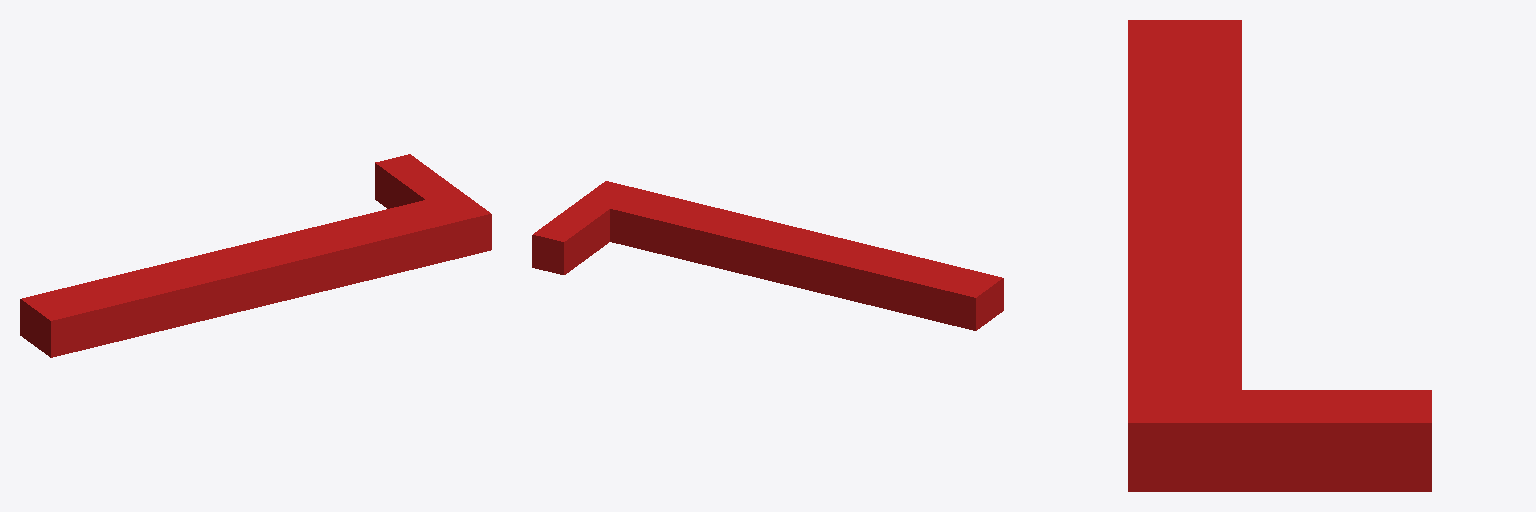
The robot description file, URDF, robot "lpeg_matchedmass_half":
<?xml version='1.0' encoding='utf-8'?>
<robot name="lpeg_matchedmass_half">
  <material name="peg_red">
    <color rgba="0.8000 0.1569 0.1569 1.0" />
  </material>
  <link name="lpeg_matchedmass">
    <visual>
      <origin xyz="0 0 0" rpy="0 0 0" />
      <geometry>
        <box size="0.125 0.015 0.01" />
      </geometry>
      <material name="peg_red" />
    </visual>
    <visual>
      <origin xyz="0.0575 0.0125 0" rpy="0 0 0" />
      <geometry>
        <box size="0.01 0.04 0.01" />
      </geometry>
      <material name="peg_red" />
    </visual>
    <collision>
      <origin xyz="0 0 0" rpy="0 0 0" />
      <geometry>
        <box size="0.125 0.015 0.01" />
      </geometry>
    </collision>
    <collision>
      <origin xyz="0.0575 0.0125 0" rpy="0 0 0" />
      <geometry>
        <box size="0.01 0.04 0.01" />
      </geometry>
    </collision>
    <inertial>
      <mass value="0.007225" />
      <origin xyz="0.01011 0.002198 0" rpy="0 0 0" />
      <inertia ixx="5.046875e-07" ixy="-7.525e-07" ixz="0" iyy="1.1284375e-05" iyz="0" izz="1.166875e-05" />
    </inertial>
  </link>
</robot>

--- What the picture shows (computed from the rendered views, not written in the file) ---
Views: 3 orthographic renders of the robot side by side, from view 1: azimuth 30°, elevation 25°; view 2: azimuth 150°, elevation 25°; view 3: azimuth 270°, elevation 25°.
Robot: lpeg_matchedmass_half — 1 links, 0 joints (none); root link lpeg_matchedmass; default pose: every joint at zero.
Visible links, largest first — view 1: lpeg_matchedmass; view 2: lpeg_matchedmass; view 3: lpeg_matchedmass.
Boxes of the visible links, x1,y1,x2,y2 form: lpeg_matchedmass: [20, 154, 491, 357]; lpeg_matchedmass: [532, 181, 1003, 330]; lpeg_matchedmass: [1128, 20, 1431, 491].
Bounding box of the posed robot: 0.125 × 0.04 × 0.01 m (x, y, z).
Geometry: primitives only (box / cylinder / sphere), no mesh files.
